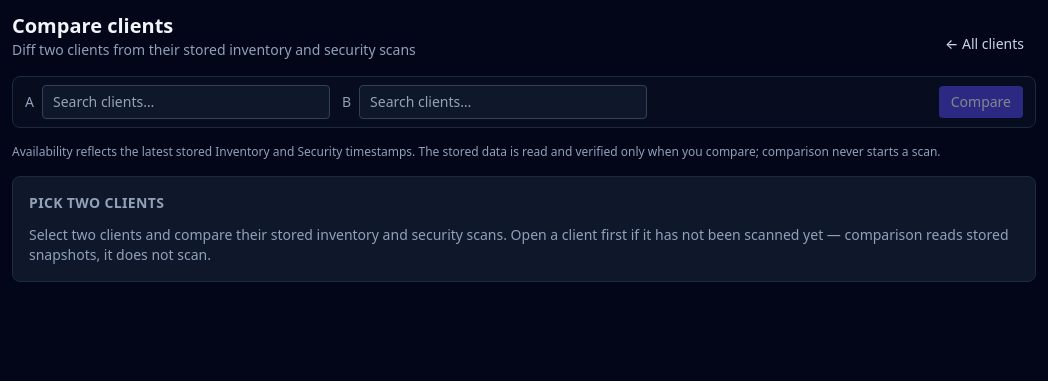
Test: ComparePage data truthfulness › keeps a typed missing inventory snapshot distinct from a technical failure
Step 1. Type "PC-A" into the dropdown named "First client" → (186, 102), box [42,85,330,119]
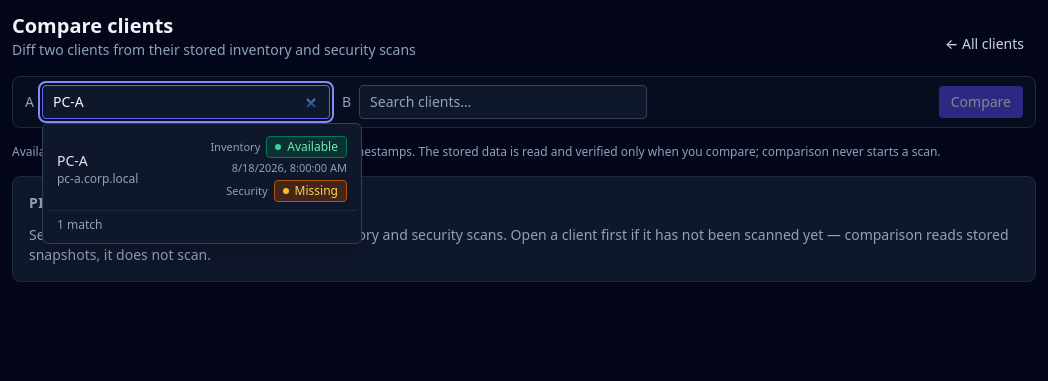
Step 2. Press Arrowdown Enter
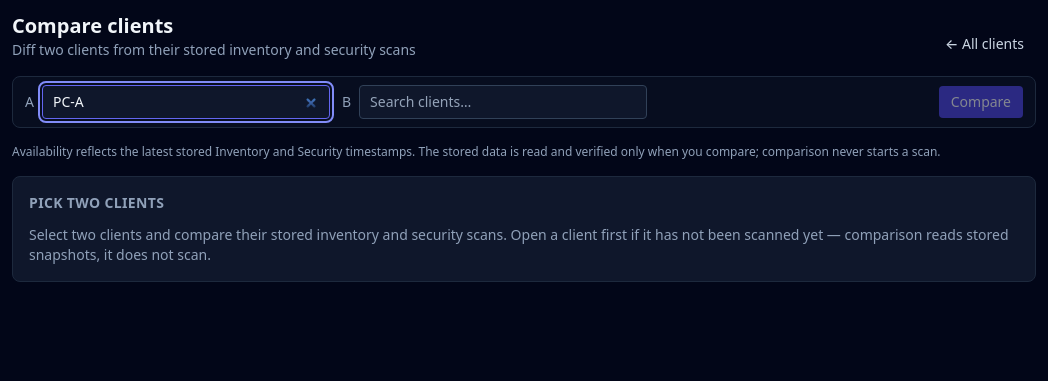
Step 3. Type "PC-B" into the dropdown named "Second client" → (503, 102), box [359,85,647,119]
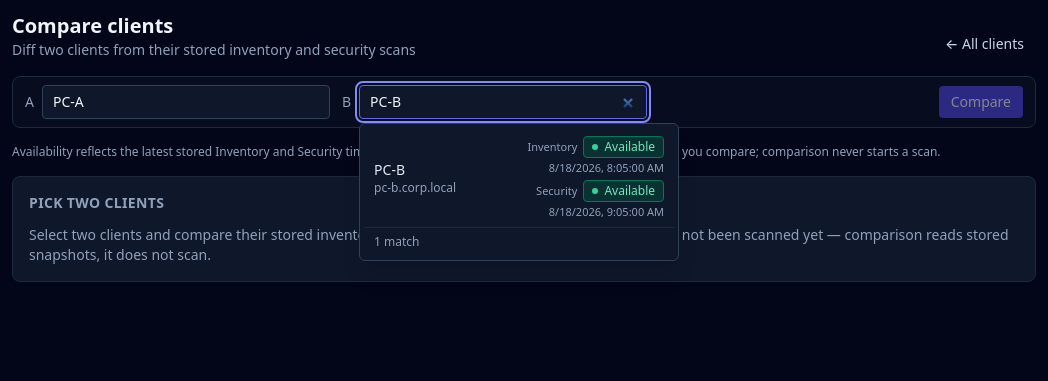
Step 4. Press Arrowdown Enter
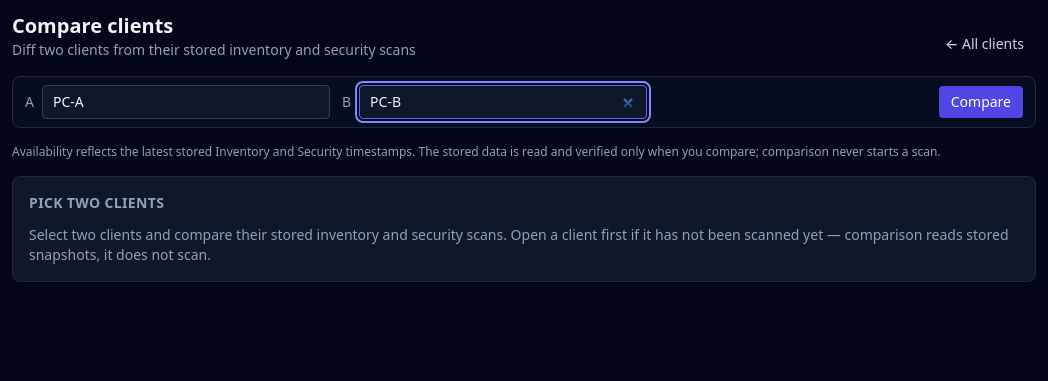
Step 5. Click the button "Compare" → (981, 102), box [939,86,1023,118]
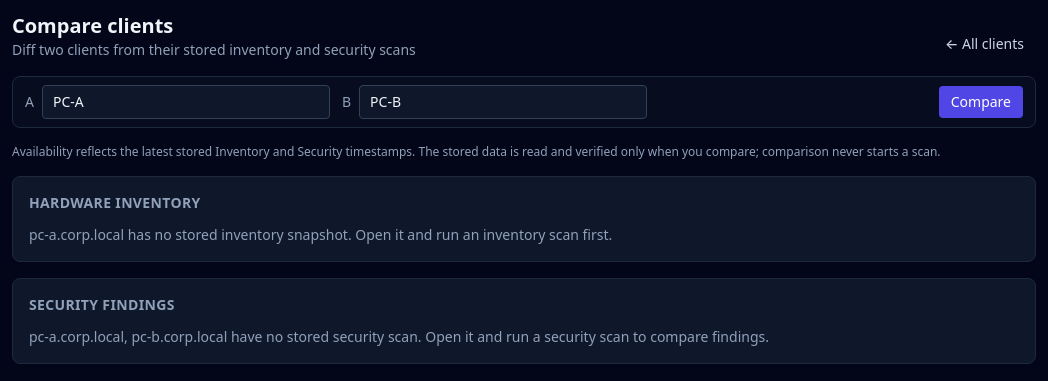
Expected: the text "pc-a.corp.local has no stored inventory snapshot" is shown, [29,225,612,244]
